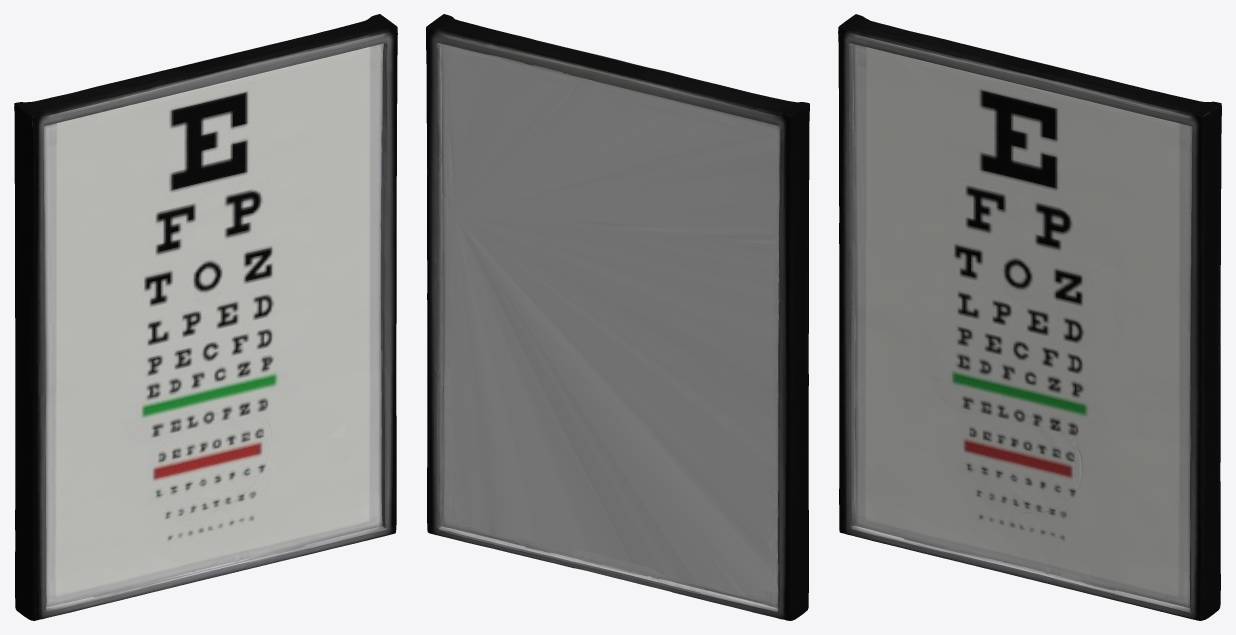
3 views of the same model, side by side, from view 1: azimuth 30°, elevation 25°; view 2: azimuth 150°, elevation 25°; view 3: azimuth 330°, elevation 25° (orthographic).
Parts seen in each view (by area): view 1: SnellenTable; view 2: SnellenTable; view 3: SnellenTable.
Boxes of the visible parts, <box> form: SnellenTable: <box>14,14,397,620</box>; SnellenTable: <box>426,14,809,620</box>; SnellenTable: <box>838,14,1221,620</box>.
Bounding box in the file's own units: 0.2276 × 0.3002 × 0.0218.
1 material, 1 textured.
